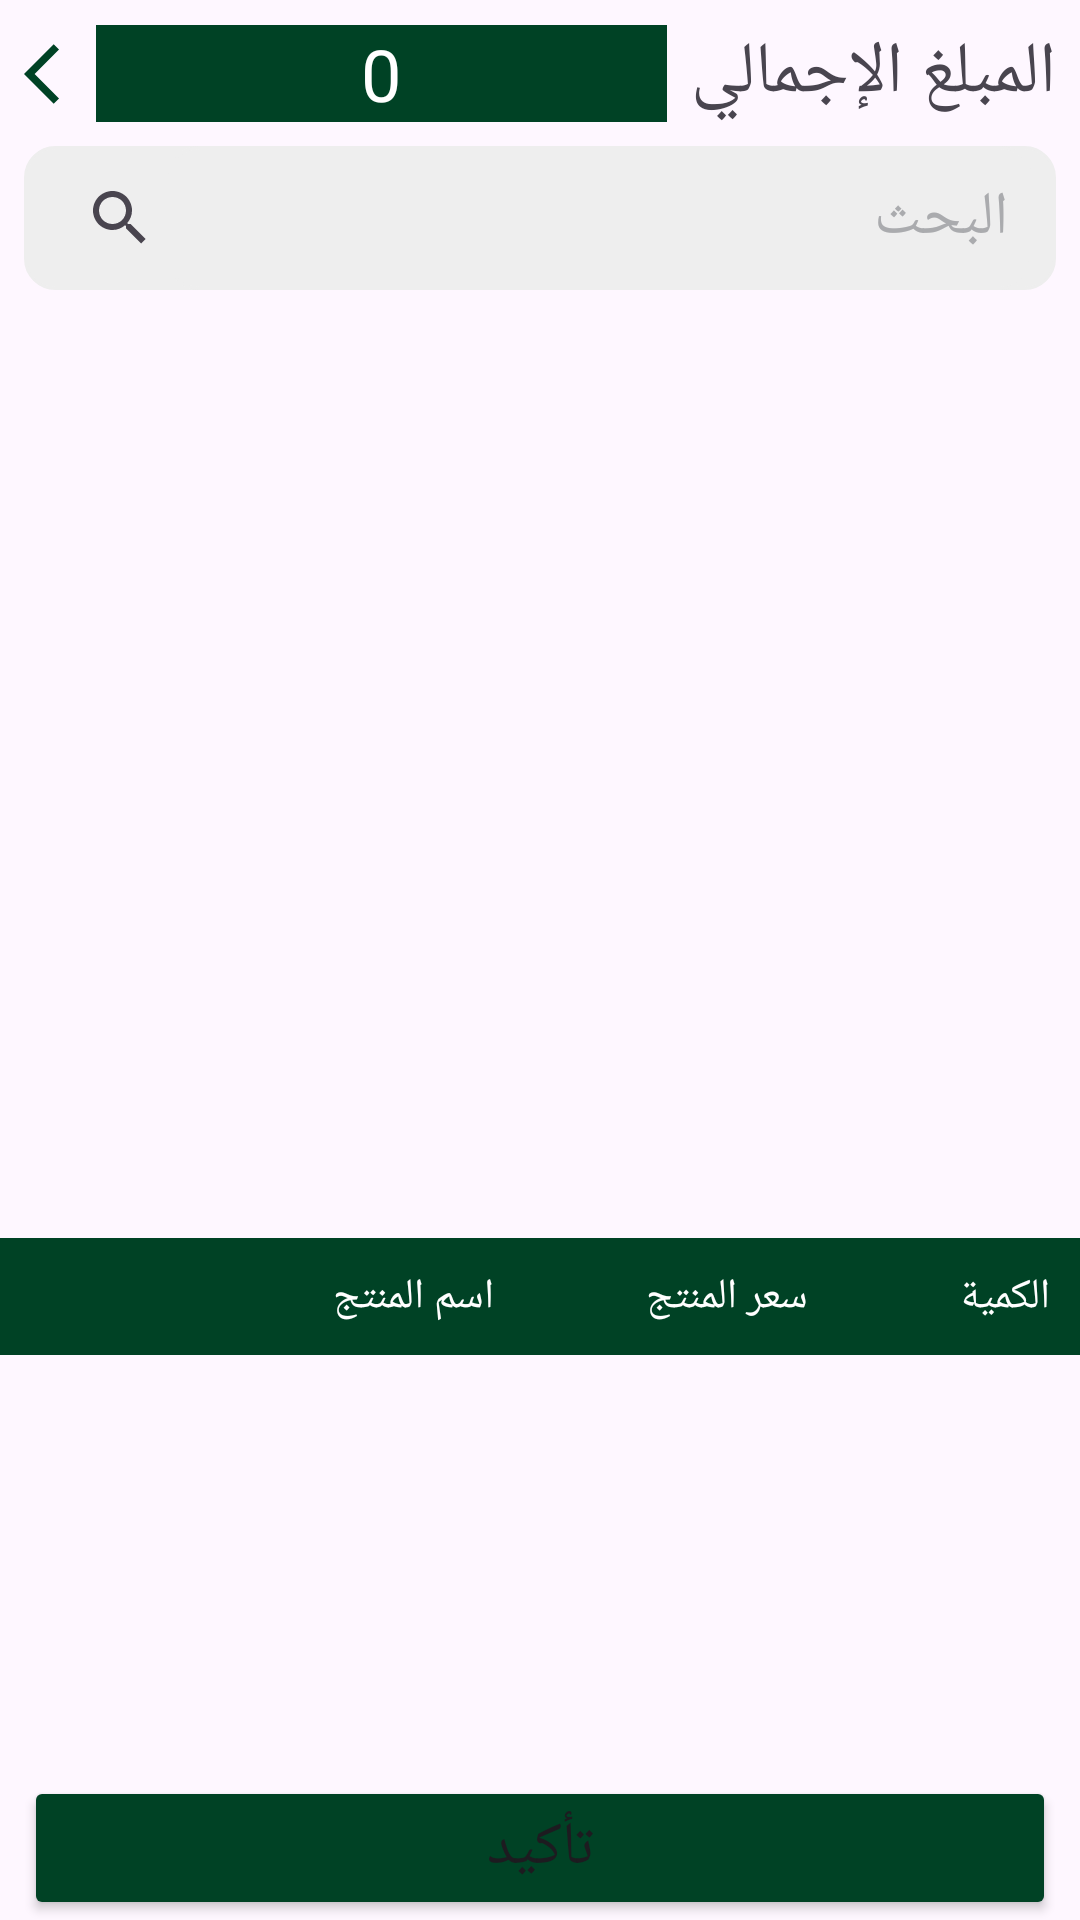

Icon click points for this 1080x1920 phone screenshot, format [x,y]:
arrow back: [41,74]
